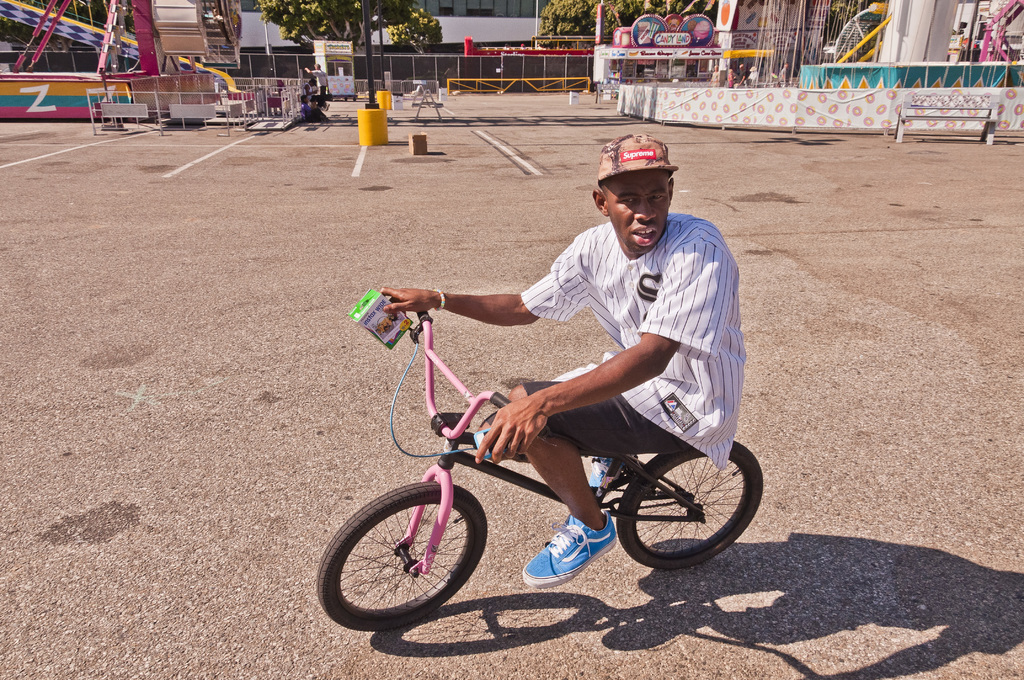Bike_toward: (304, 303, 822, 639)
